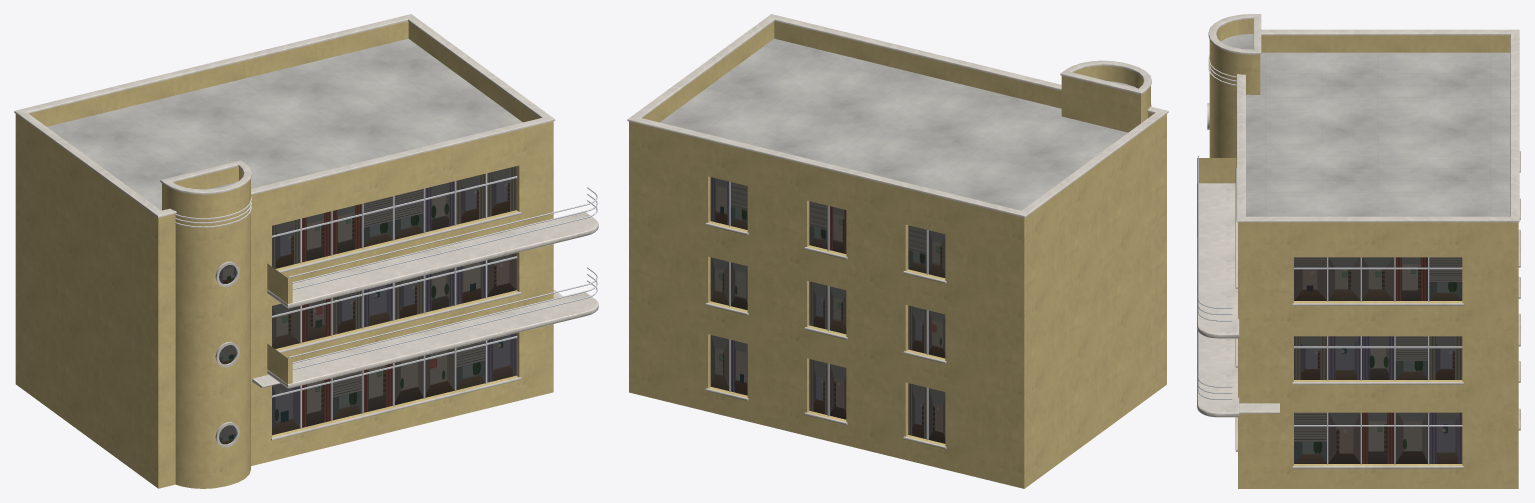
The picture shows the model from 3 angles, left to right: view 1: azimuth 30°, elevation 25°; view 2: azimuth 150°, elevation 25°; view 3: azimuth 270°, elevation 25°; orthographic projection.
Visible parts, largest first — view 1: bg_4_mesh; view 2: bg_4_mesh; view 3: bg_4_mesh.
Part boxes in pixels (x1,y1,x2,y2): bg_4_mesh: (14,14,598,488); bg_4_mesh: (627,14,1168,488); bg_4_mesh: (1197,14,1520,488).
Bounding box in the file's own units: 17.34 × 11.48 × 11.53.
Materials: 5 (4 with a texture image).
